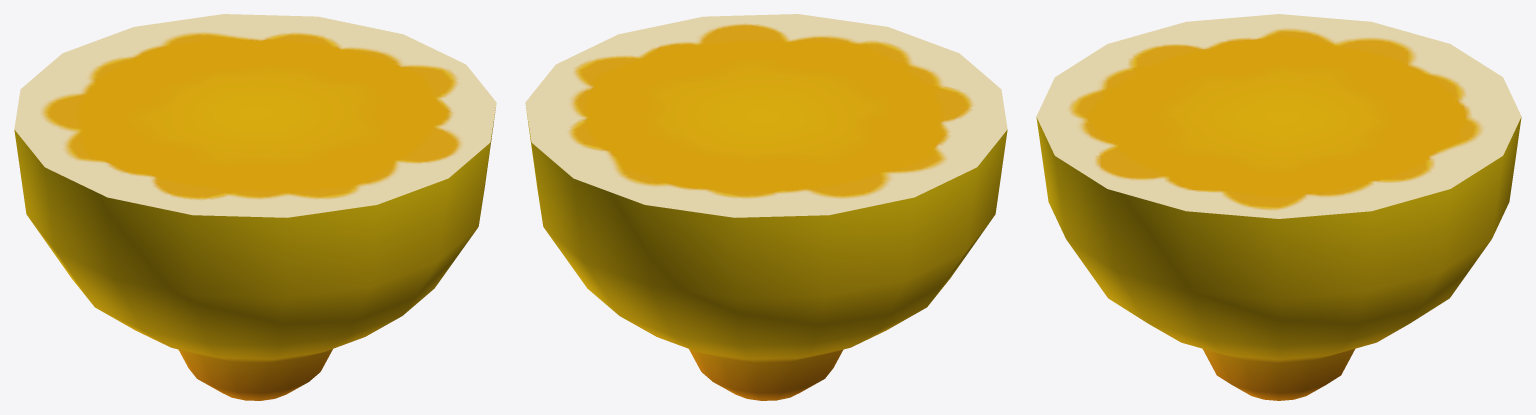
File: Lemon_Slice_01.glb
The picture shows the model from 3 angles, left to right: view 1: azimuth 30°, elevation 25°; view 2: azimuth 150°, elevation 25°; view 3: azimuth 270°, elevation 25°; orthographic projection.
Visible parts, largest first — view 1: Lemon_Slice_01; view 2: Lemon_Slice_01; view 3: Lemon_Slice_01.
Part boxes in pixels (x1,y1,x2,y2): Lemon_Slice_01: (14, 14, 496, 400); Lemon_Slice_01: (525, 14, 1007, 400); Lemon_Slice_01: (1036, 14, 1521, 400).
Size of the model in its own units: 0.2184 by 0.1378 by 0.2184.
Materials: 1 (1 with a texture image).
